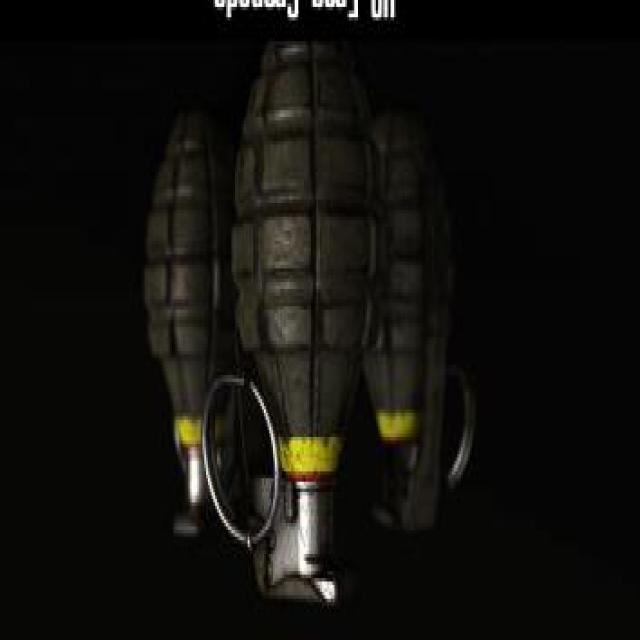grenade: (202, 35, 390, 610), (363, 111, 477, 538), (142, 108, 245, 545)
